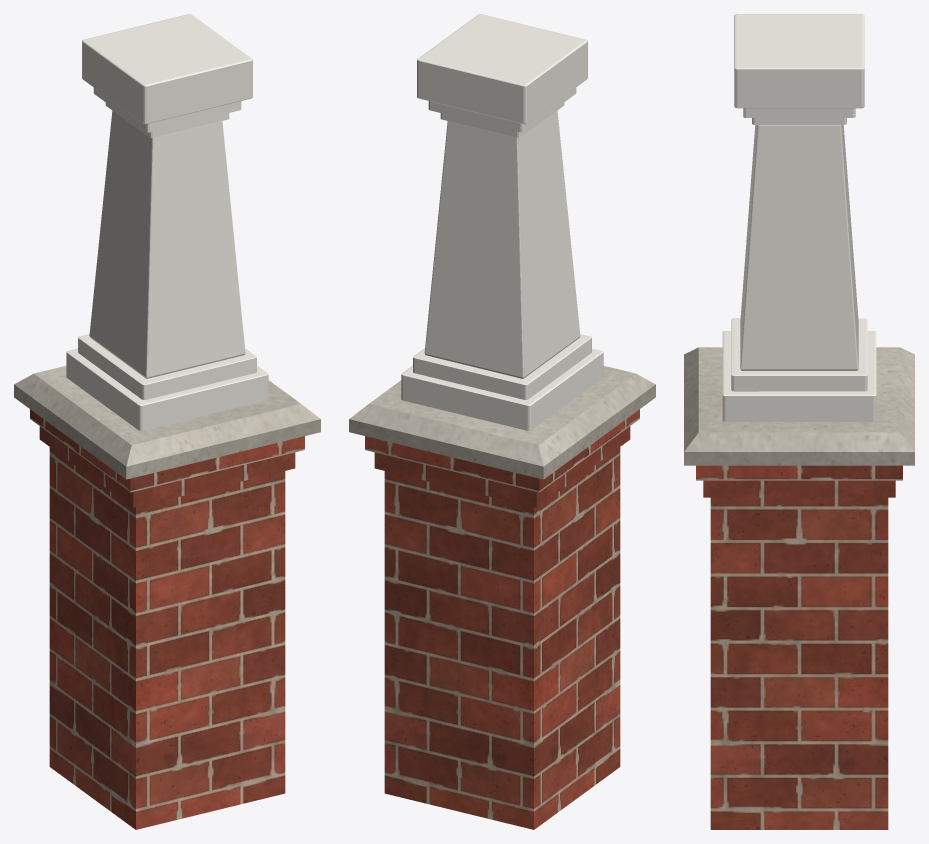
File: porch_pier.glb
3 renders of one model, left to right at view 1: azimuth 30°, elevation 25°; view 2: azimuth 150°, elevation 25°; view 3: azimuth 270°, elevation 25°, orthographic. The views are drawn at different scales.
Parts seen in each view (by area): view 1: porch_pier_brick, porch_pier_trim, porch_pier_cap; view 2: porch_pier_brick, porch_pier_trim, porch_pier_cap; view 3: porch_pier_brick, porch_pier_trim, porch_pier_cap.
Part boxes in pixels (box(x1,y1,x2,y2)): porch_pier_brick: box(30, 409, 304, 829); porch_pier_trim: box(66, 14, 268, 430); porch_pier_cap: box(14, 366, 320, 479); porch_pier_brick: box(365, 409, 639, 829); porch_pier_trim: box(401, 14, 603, 430); porch_pier_cap: box(349, 366, 655, 479); porch_pier_brick: box(696, 465, 902, 829); porch_pier_trim: box(722, 14, 876, 421); porch_pier_cap: box(684, 347, 914, 465).
Bounding box in the file's own units: 0.78 × 2.8 × 0.78.
3 materials, 2 textured.
